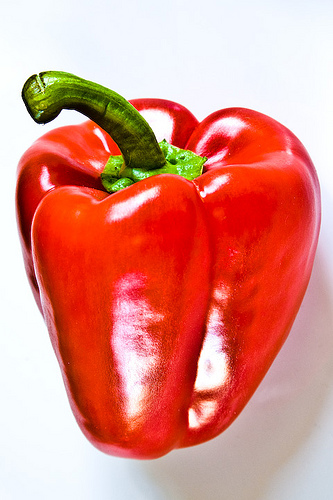capsicum: (11, 67, 324, 458)
